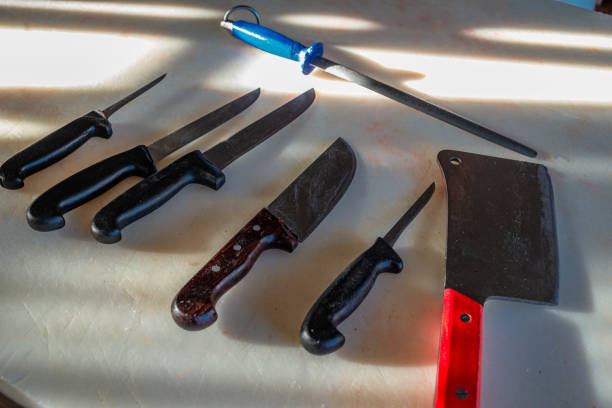knife: (169, 133, 359, 333), (88, 86, 317, 246), (23, 85, 262, 234), (430, 146, 562, 408), (297, 181, 436, 356), (0, 71, 169, 191)
